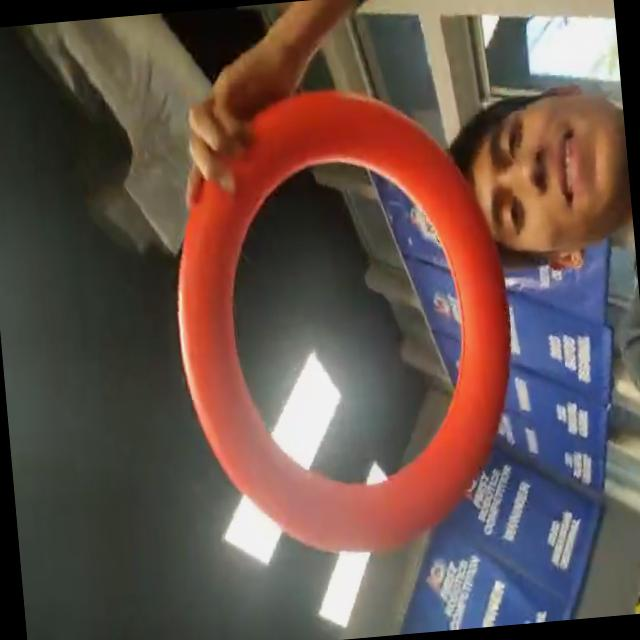note: (158, 76, 532, 569)
